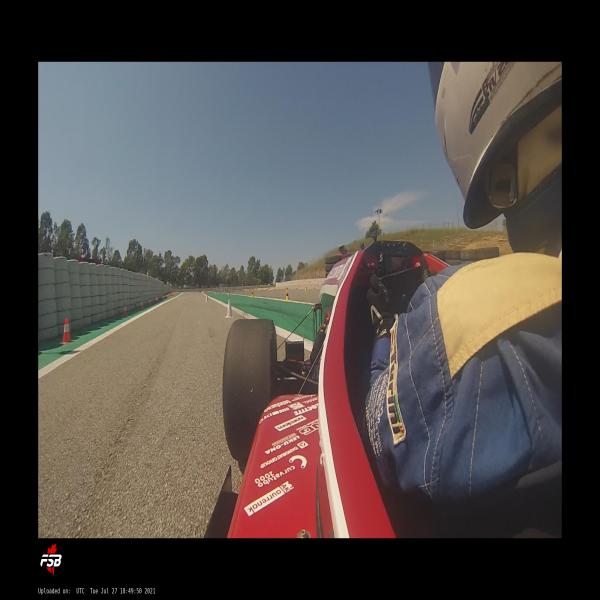orange_cone: (61, 318, 73, 344), (122, 304, 128, 316), (140, 300, 144, 308), (148, 298, 152, 306), (155, 296, 158, 302), (162, 294, 164, 300)
unknown_cone: (226, 299, 234, 319), (205, 294, 208, 302)
yellow_cone: (285, 290, 290, 301), (251, 290, 254, 298), (228, 290, 230, 295), (305, 286, 307, 290)
